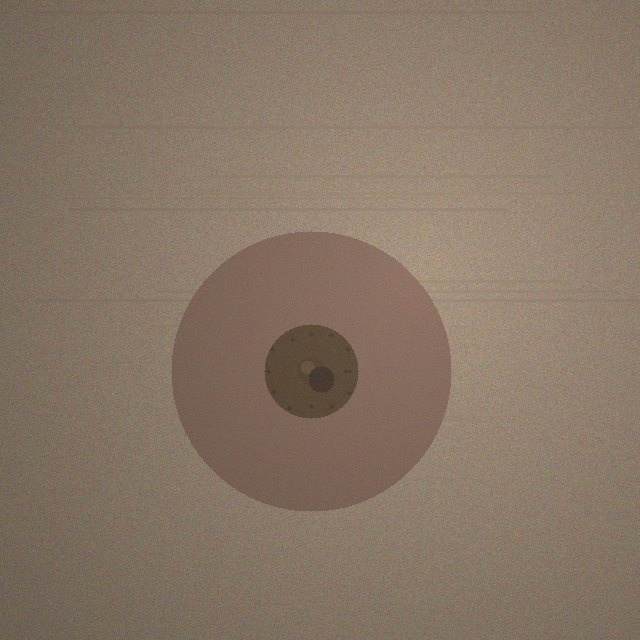cold_weld: (171, 231, 451, 511)
